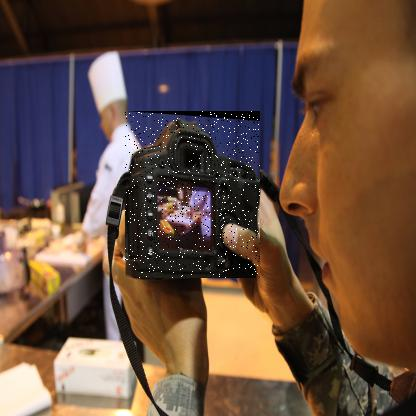Camera: (126, 112, 262, 280)
